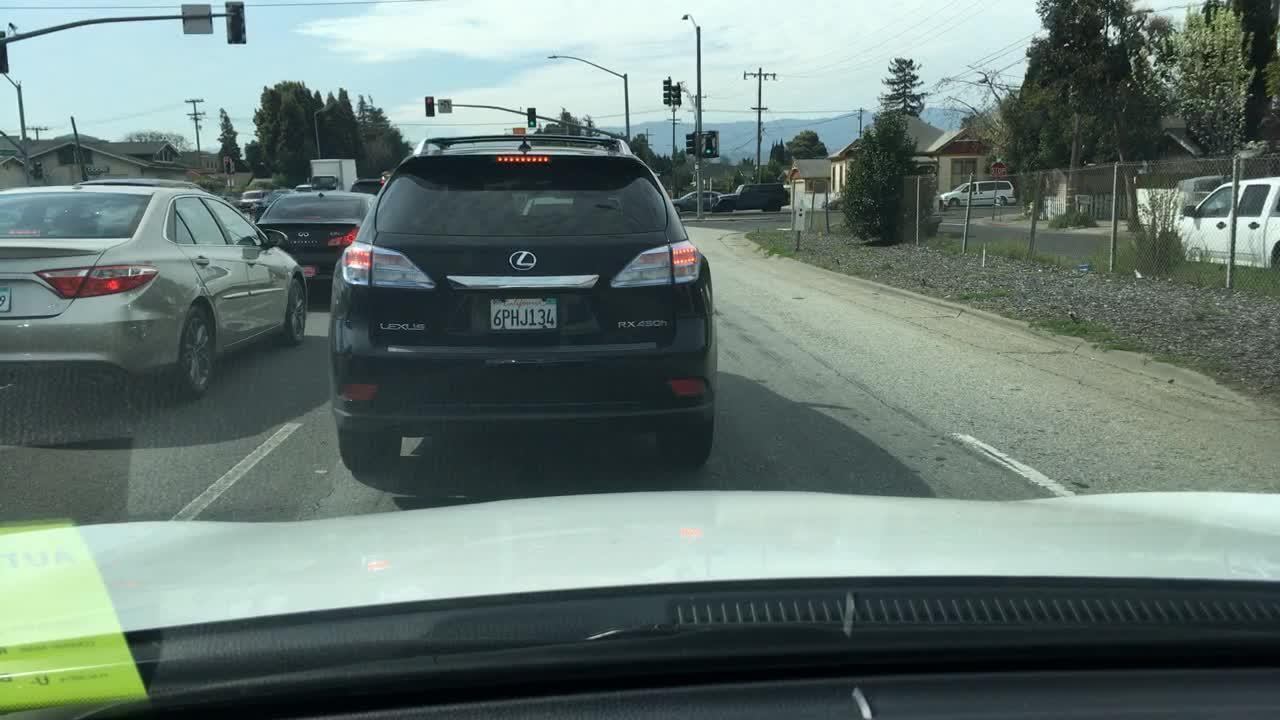lexus: (499, 243, 543, 276)
